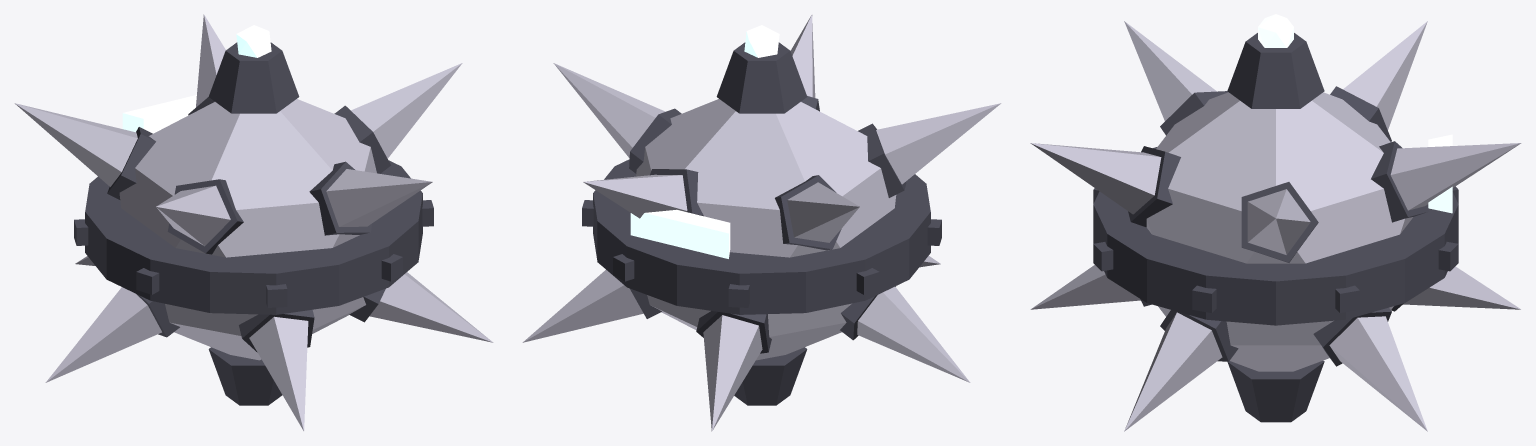
Rendered from mine.glb.
The picture shows the model from 3 angles, left to right: view 1: azimuth 30°, elevation 25°; view 2: azimuth 150°, elevation 25°; view 3: azimuth 270°, elevation 25°; orthographic projection. The views are drawn at different scales.
Visible parts, largest first — view 1: Mine; view 2: Mine; view 3: Mine.
Boxes of the visible parts, x1=… form: Mine: x1=14, y1=14, x2=493, y2=430; Mine: x1=522, y1=15, x2=1001, y2=431; Mine: x1=1030, y1=14, x2=1521, y2=431.
Bounding box in the file's own units: 1.7 × 1.44 × 1.62.
